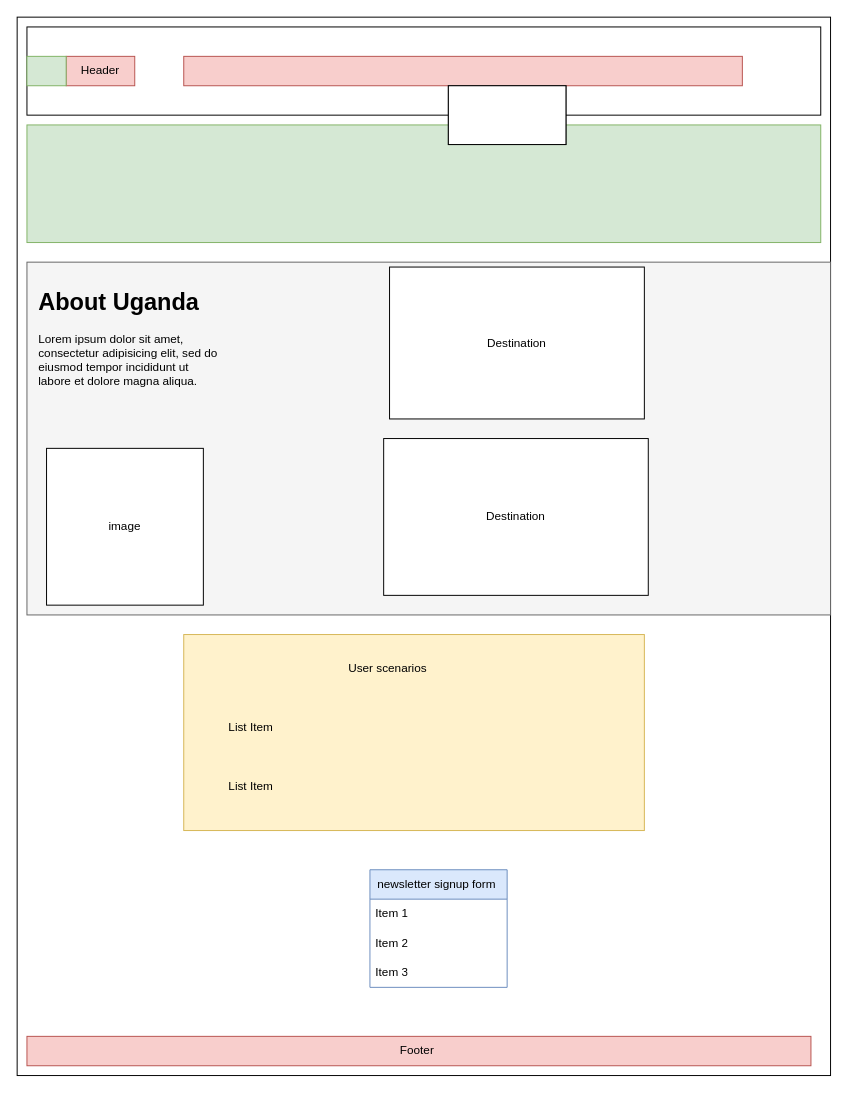
Some shapes in this 848 by 1093 pixel diagram are drawn without their labels. The shapes that lost their labels are listed below. From the top down, each one's centre as x and y in pixels, then its label:
At pixel 46 70: "Logo".
At pixel 462 70: "Navigation".
At pixel 423 183: "Hero image (with a welcome text + CTA)".
